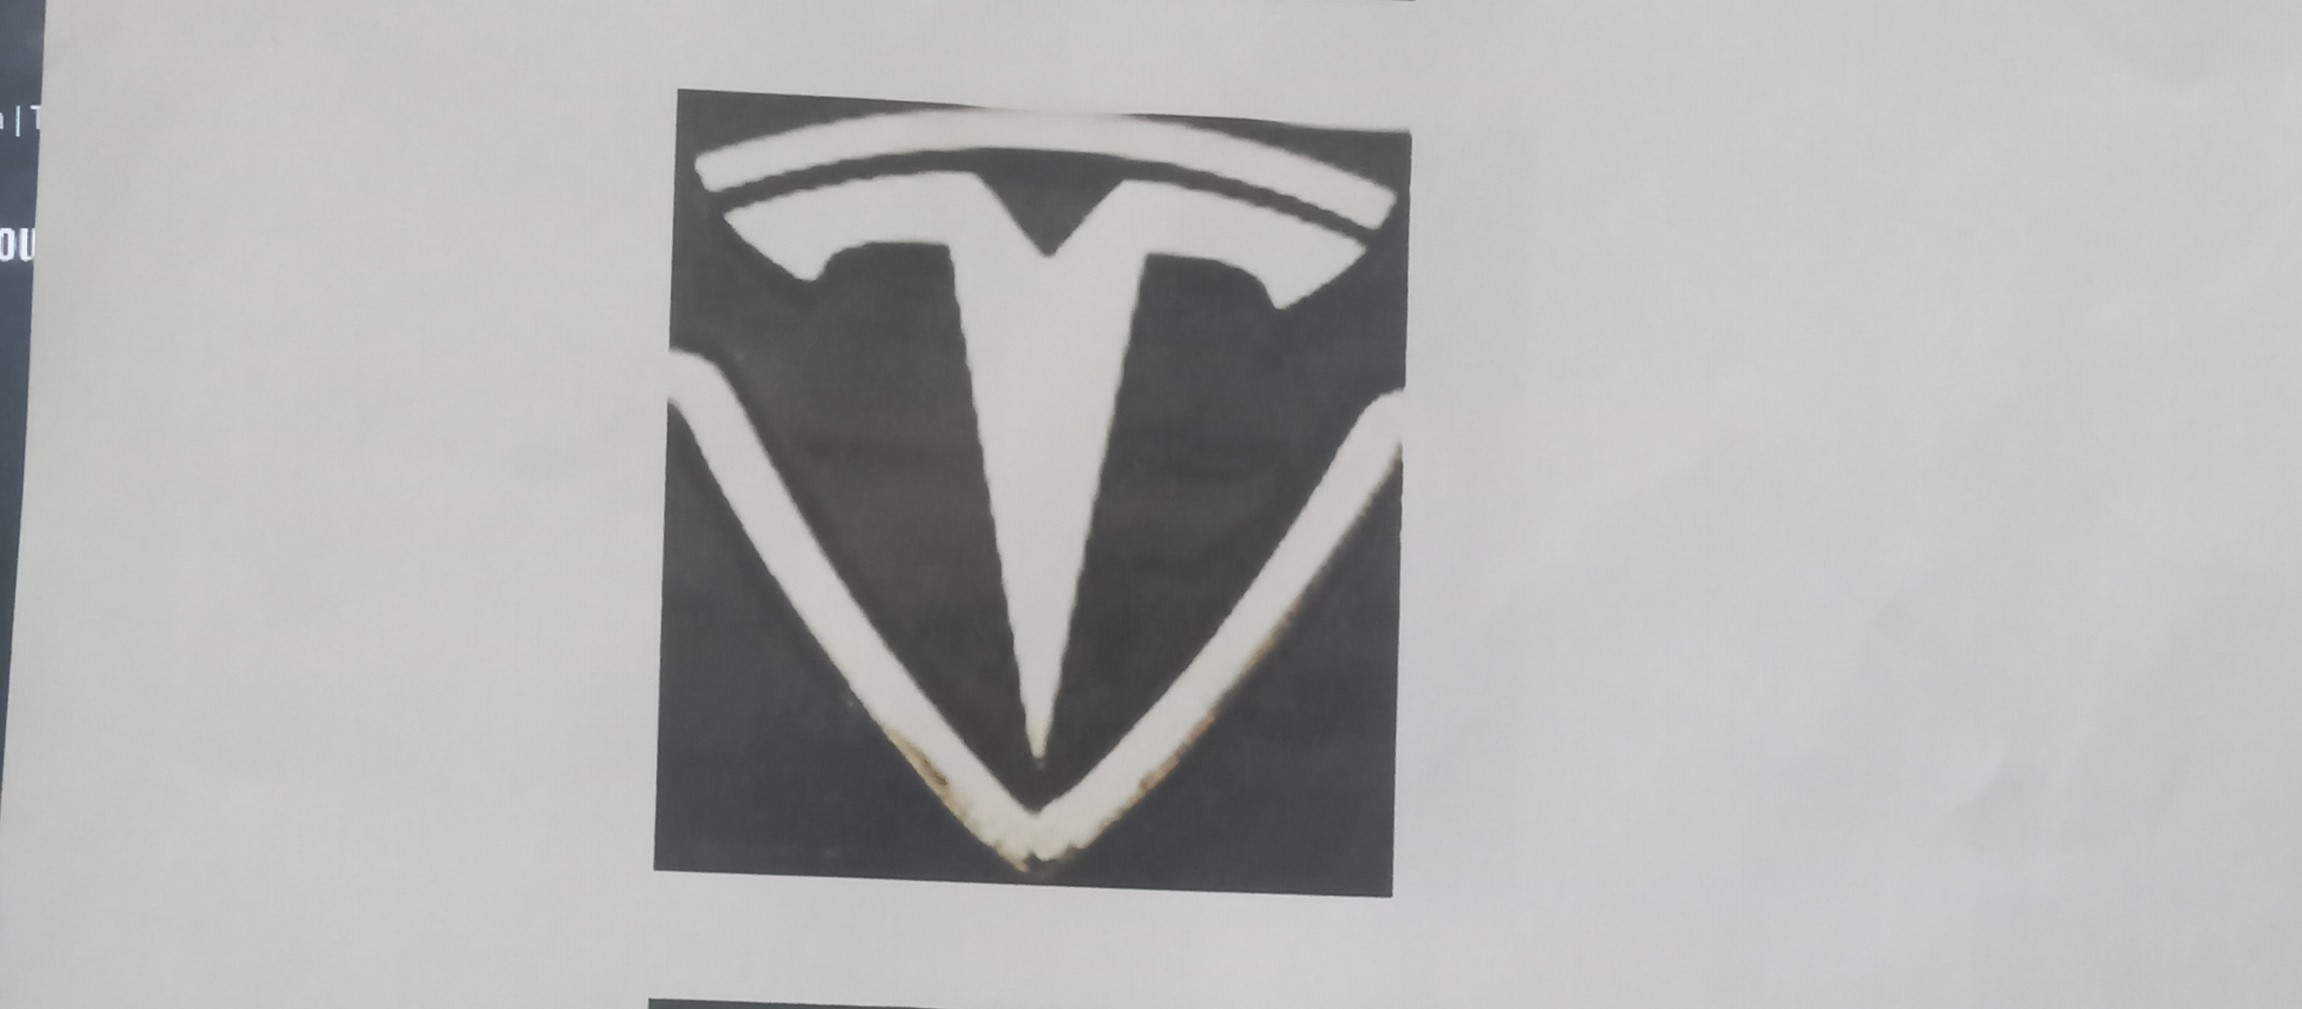Tesla: (675, 90, 1411, 897)
